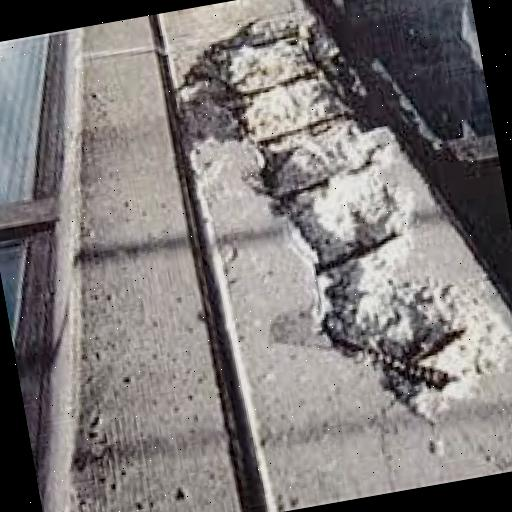spalling: (181, 7, 506, 417), (136, 18, 279, 512)
